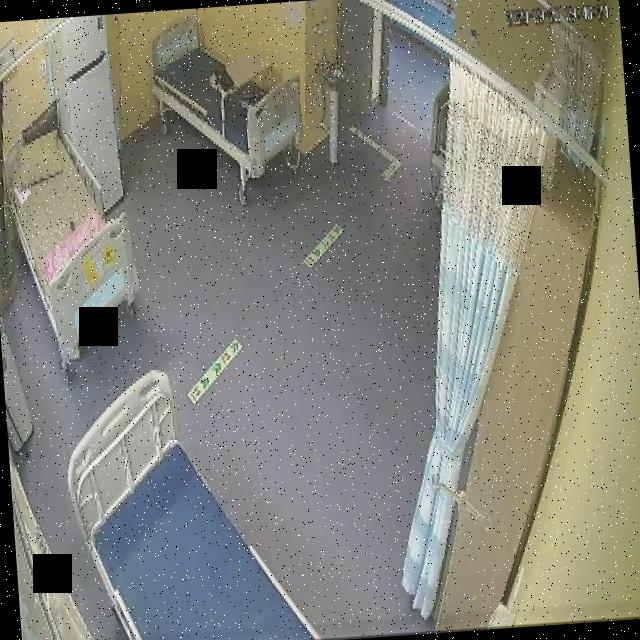bed: (60, 360, 320, 640), (0, 108, 144, 346), (146, 7, 306, 185)
